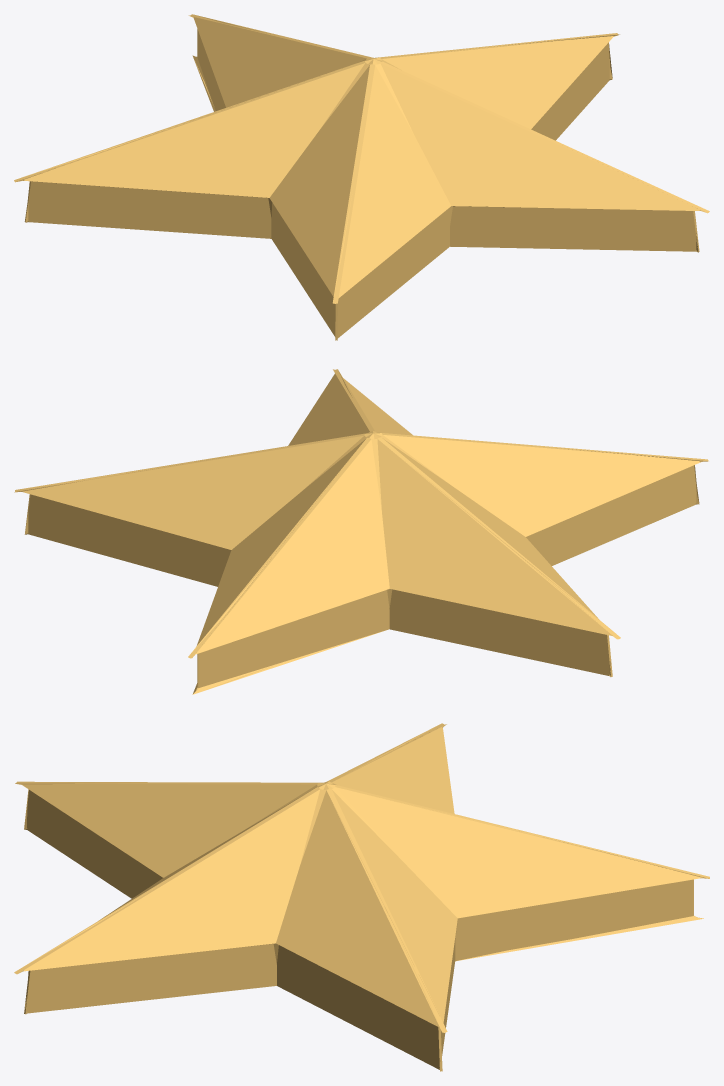
File: ghstar.glb
3 renders of one model, top to bottom at view 1: azimuth 30°, elevation 25°; view 2: azimuth 150°, elevation 25°; view 3: azimuth 270°, elevation 25°, orthographic. The views are drawn at different scales.
Visible parts, largest first — view 1: GhStar; view 2: GhStar; view 3: GhStar.
Part boxes in pixels (box(x1,y1,x2,y2)): GhStar: box(14, 14, 709, 340); GhStar: box(14, 369, 708, 694); GhStar: box(14, 723, 709, 1071).
Bounding box in the file's own units: 4.36 × 0.9082 × 4.14.
